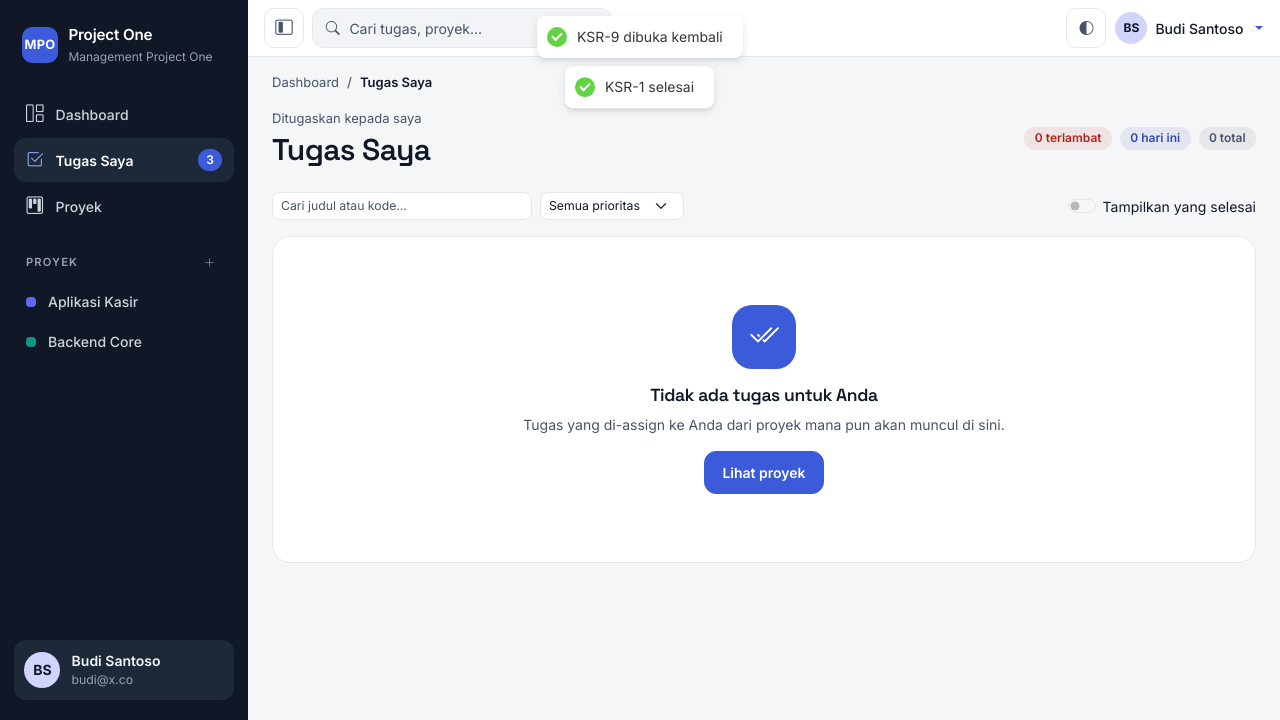
Test: Tugas Saya › kosong: ajakan ke proyek; kosong karena filter: pesan berbeda
Expected: the heading "Tidak ada tugas untuk Anda" is shown, [650,384,878,406]
Select "Low" in the dropdown named "Prioritas" at (612, 206), box [540,192,684,220]
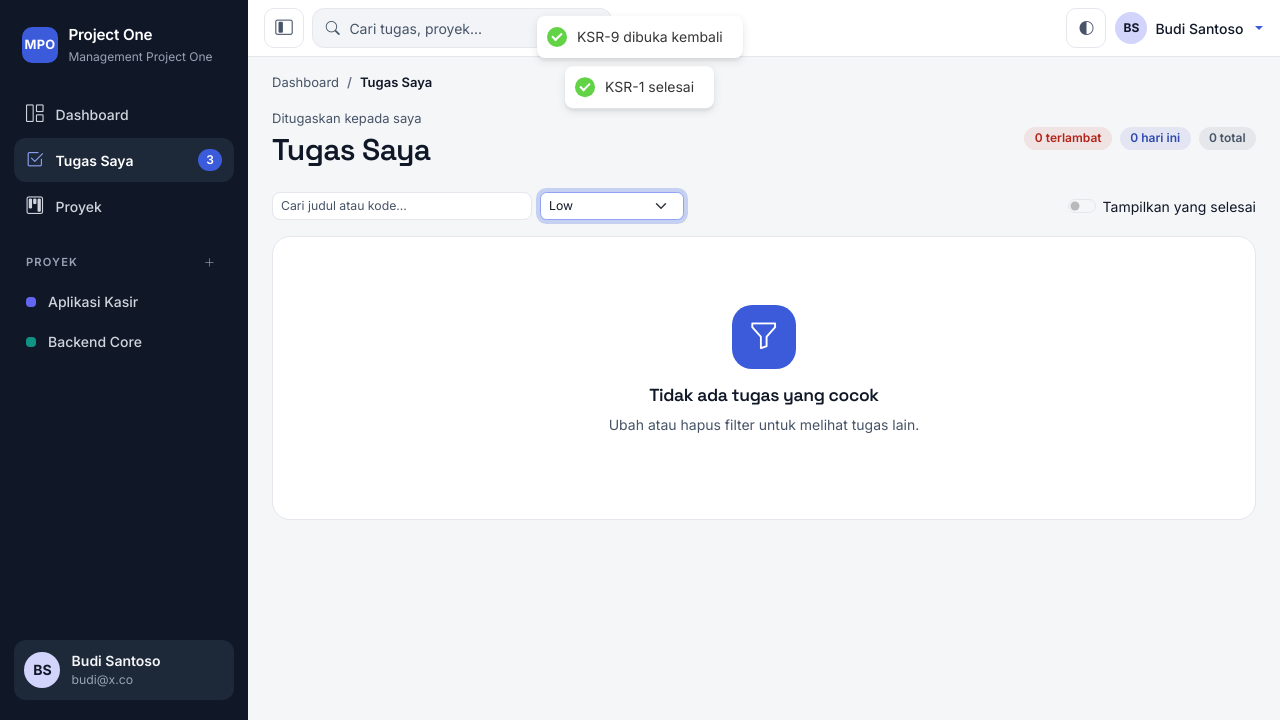
Now the heading "Tidak ada tugas yang cocok" is shown, box [649,384,879,406]
